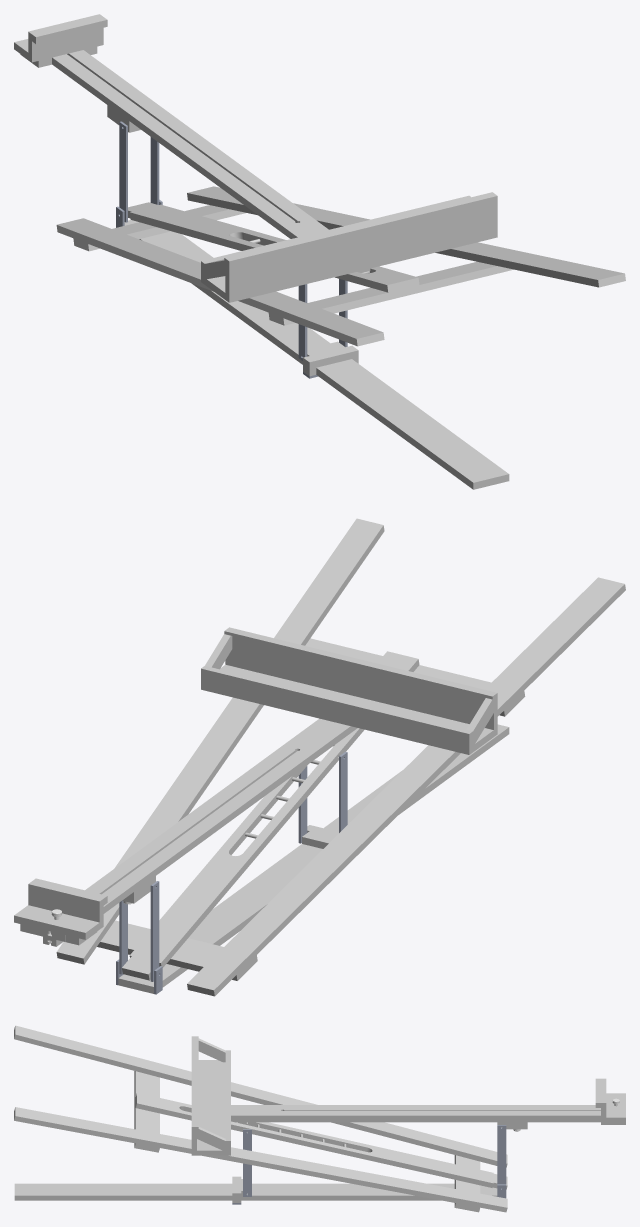
File: collapsible-painting-easel.glb
3 views of the same model, one above another, from view 1: azimuth 30°, elevation 25°; view 2: azimuth 150°, elevation 25°; view 3: azimuth 270°, elevation 25° (orthographic). The views are drawn at different scales.
Parts seen in each view (by area): view 1: NAUO5, NAUO1, NAUO2, NAUO8, NAUO7, NAUO3, NAUO4; view 2: NAUO1, NAUO5, NAUO2, NAUO8, NAUO7, NAUO4; view 3: NAUO1, NAUO5, NAUO2, NAUO8, NAUO7, NAUO4, NAUO3.
Boxes of the visible parts, left/top/right/bottom form: NAUO5: left=52, top=50, right=497, bottom=302; NAUO1: left=56, top=186, right=625, bottom=346; NAUO2: left=116, top=199, right=509, bottom=489; NAUO8: left=14, top=14, right=107, bottom=67; NAUO7: left=119, top=121, right=159, bottom=222; NAUO3: left=303, top=341, right=358, bottom=378; NAUO4: left=298, top=279, right=347, bottom=360; NAUO1: left=56, top=518, right=625, bottom=996; NAUO5: left=34, top=627, right=497, bottom=946; NAUO2: left=116, top=724, right=509, bottom=994; NAUO8: left=14, top=878, right=107, bottom=945; NAUO7: left=119, top=881, right=159, bottom=981; NAUO4: left=298, top=751, right=347, bottom=843; NAUO1: left=14, top=1025, right=507, bottom=1212; NAUO5: left=191, top=1036, right=600, bottom=1155; NAUO2: left=14, top=1183, right=506, bottom=1200; NAUO8: left=595, top=1078, right=625, bottom=1124; NAUO7: left=497, top=1125, right=506, bottom=1189; NAUO4: left=243, top=1129, right=251, bottom=1196; NAUO3: left=232, top=1176, right=247, bottom=1204.
Bounding box in the file's own units: 0.762 × 0.5125 × 2.17.
